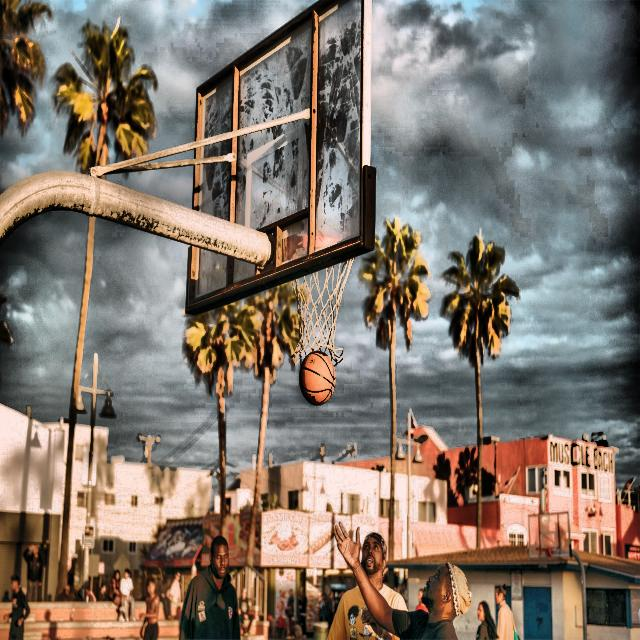board: (300, 350, 336, 406)
